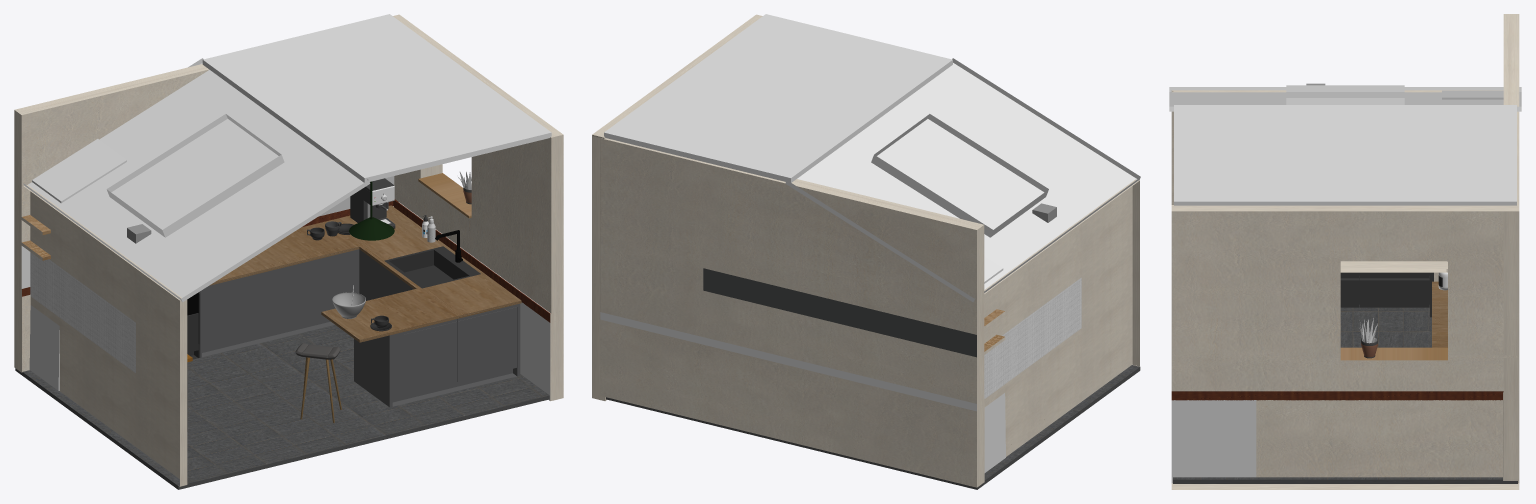
File: Kitchen.fbx
3 views of the same model, side by side, from view 1: azimuth 30°, elevation 25°; view 2: azimuth 150°, elevation 25°; view 3: azimuth 270°, elevation 25° (orthographic). The views are drawn at different scales.
Visible parts, largest first — view 1: RoofR, Floor, RoofL, bar, WallsideL, WallsideR, Barlong, Wallup, GrassRoof, WallsideL.001, support pole, WallsideR.001 (+8 smaller); view 2: Wallup, RoofR, RoofL, WallsideL, GrassRoof, shelfBox, WallsideL.001, WallsideR, WallupD, Floor, support pole; view 3: WallsideR, RoofR, WallsideR.001, Wallup, Floor, RoofL, Cube, TabWallsideRD.001, TabWallUpR, Barlong, WallsideL, GrassRoof (+1 smaller).
Part boxes in pixels (<box>): RoofR: <box>202,14,551,182</box>; Floor: <box>15,325,549,489</box>; RoofL: <box>23,58,370,302</box>; bar: <box>198,249,520,407</box>; WallsideL: <box>23,185,187,486</box>; WallsideR: <box>393,14,563,401</box>; Barlong: <box>209,205,521,342</box>; Wallup: <box>14,64,393,372</box>; GrassRoof: <box>109,119,284,237</box>; WallsideL.001: <box>30,252,135,372</box>; support pole: <box>29,139,126,390</box>; WallsideR.001: <box>520,302,550,400</box>; Wallup: <box>600,138,1005,487</box>; RoofR: <box>604,14,952,182</box>; RoofL: <box>785,58,1140,301</box>; WallsideL: <box>984,179,1139,456</box>; GrassRoof: <box>871,119,1046,237</box>; shelfBox: <box>703,268,976,357</box>; WallsideL.001: <box>984,277,1081,398</box>; WallsideR: <box>592,14,762,400</box>; WallupD: <box>600,312,976,411</box>; Floor: <box>606,365,1140,489</box>; support pole: <box>984,256,1005,472</box>; WallsideR: <box>1171,205,1519,489</box>; RoofR: <box>1174,105,1516,205</box>; WallsideR.001: <box>1171,400,1256,483</box>; Wallup: <box>1503,14,1519,480</box>; Floor: <box>1173,305,1517,483</box>; RoofL: <box>1169,85,1521,111</box>; Cube: <box>1340,272,1433,317</box>; TabWallsideRD.001: <box>1171,391,1503,400</box>; TabWallUpR: <box>1340,347,1447,360</box>; Barlong: <box>1432,281,1447,347</box>; WallsideL: <box>1171,90,1503,281</box>; GrassRoof: <box>1286,92,1404,104</box>.
Bounding box in the file's own units: 1995 × 1291 × 1457.
